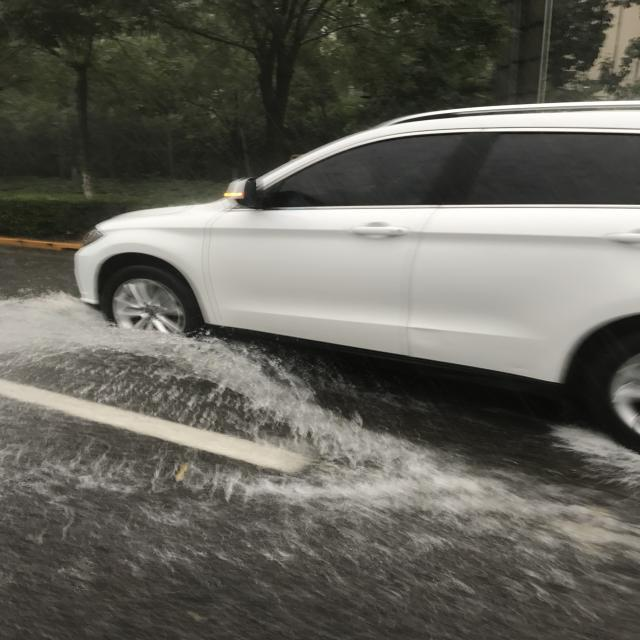car: (100, 1, 456, 564)
